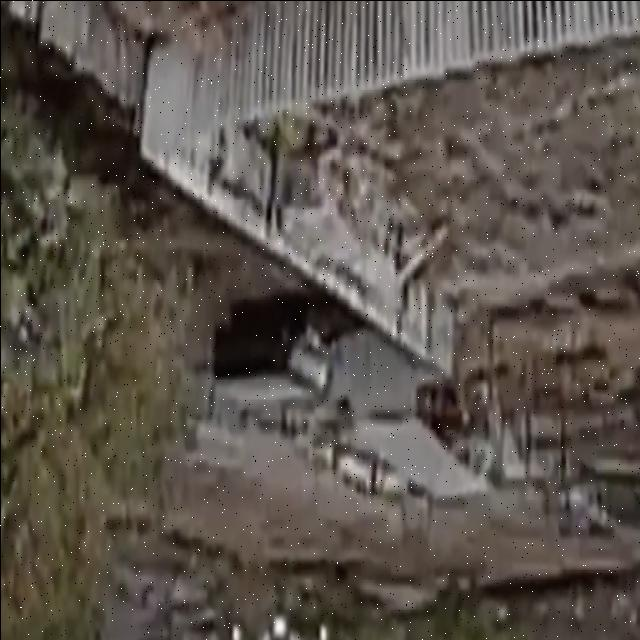CAR: (212, 298, 334, 410)
